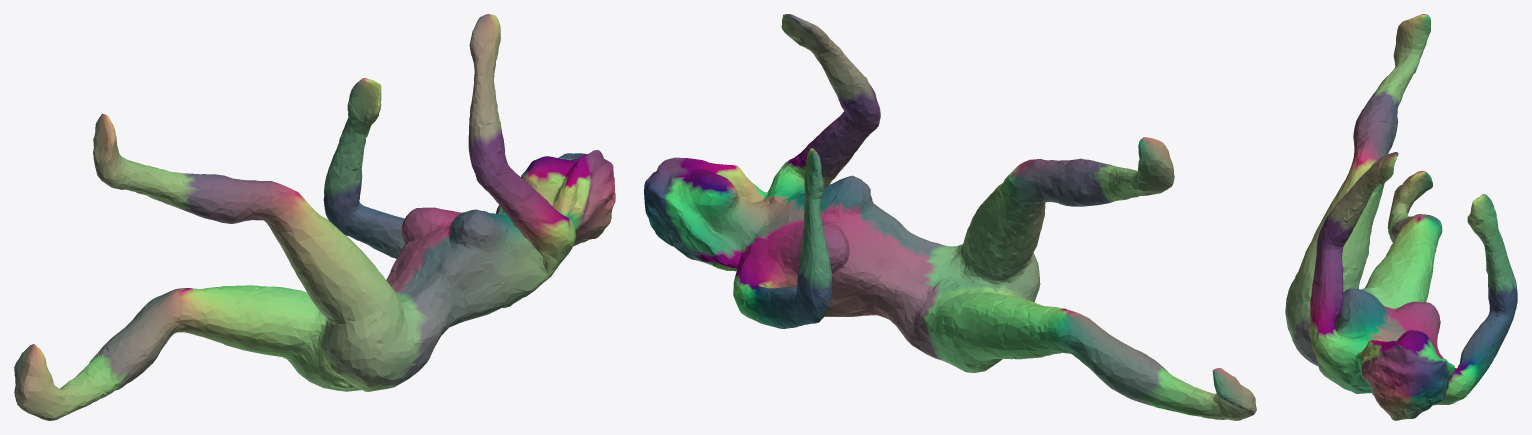
The model's file is woman-2.off.obj.
3 views of the same model, side by side, from view 1: azimuth 30°, elevation 25°; view 2: azimuth 150°, elevation 25°; view 3: azimuth 270°, elevation 25° (orthographic). The views are drawn at different scales.
Bounding box in the file's own units: 1.52 × 0.7834 × 0.5776.
